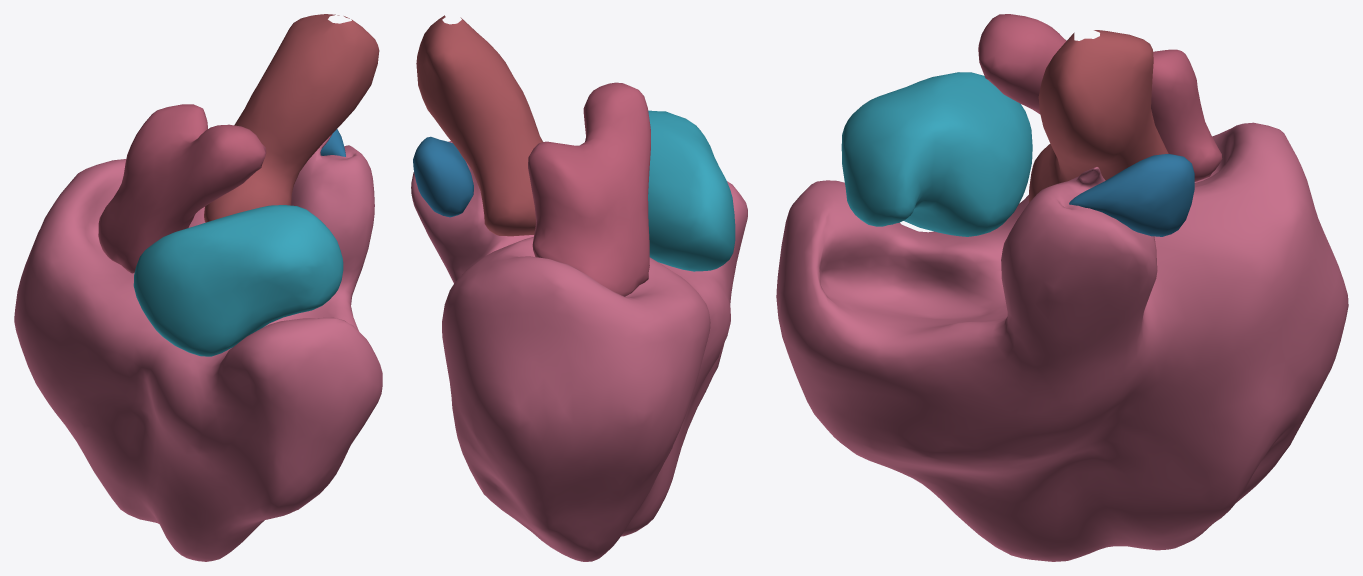
File: frame_15.glb
3 views of the same model, side by side, from view 1: azimuth 30°, elevation 25°; view 2: azimuth 150°, elevation 25°; view 3: azimuth 270°, elevation 25° (orthographic). The views are drawn at different scales.
Parts seen in each view (by area): view 1: Renderer Node; view 2: Renderer Node; view 3: Renderer Node.
Boxes of the visible parts, x1,y1,x2,y2 form: Renderer Node: (14,14,382,561); Renderer Node: (411,15,747,561); Renderer Node: (776,14,1348,561).
Size of the model in its own units: 102 by 158 by 132.
